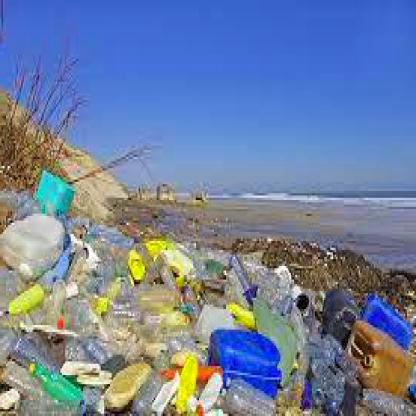Plastic: (345, 317, 413, 394), (207, 331, 284, 394), (1, 212, 67, 274), (360, 301, 414, 351), (24, 364, 81, 408), (3, 280, 42, 317), (196, 303, 228, 343)
